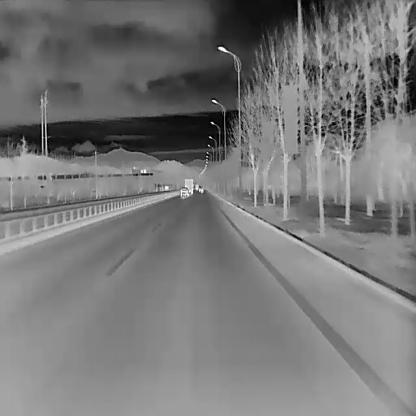car: (184, 178, 193, 194), (180, 186, 190, 198), (198, 186, 203, 193)
